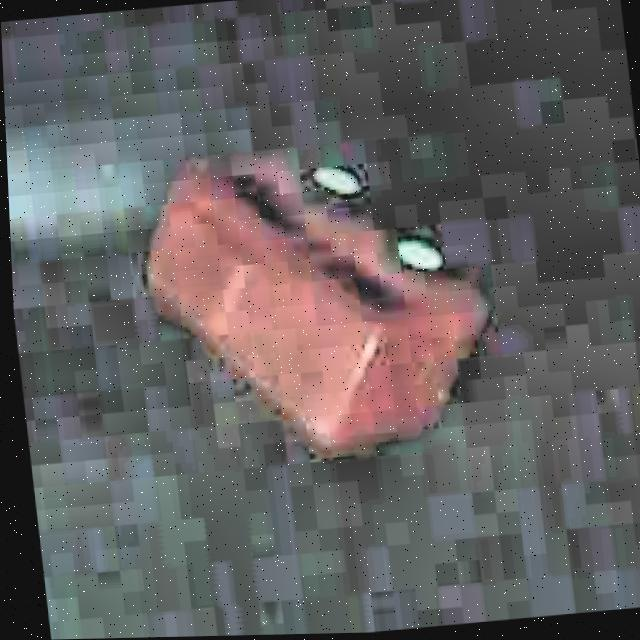bus: (117, 119, 515, 472)
